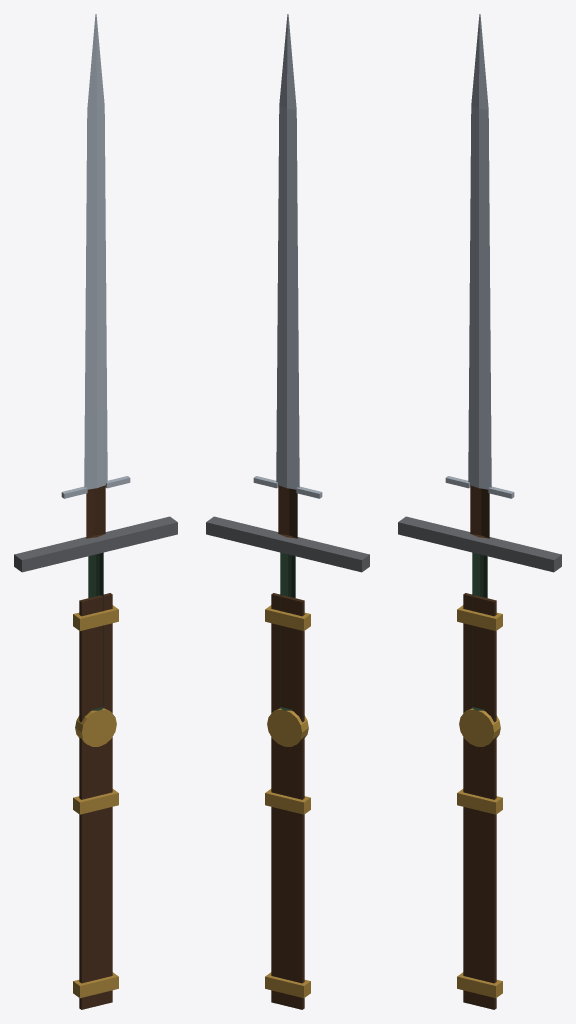
File: windgap-warden.glb
3 renders of one model, left to right at view 1: azimuth 30°, elevation 25°; view 2: azimuth 150°, elevation 25°; view 3: azimuth 330°, elevation 25°, orthographic.
Parts seen in each view (by area): view 1: weapon, carrier; view 2: weapon, carrier; view 3: weapon, carrier.
Boxes of the visible parts, x1,y1,x2,y2 form: weapon: [14, 14, 177, 746]; carrier: [73, 593, 118, 1009]; weapon: [206, 14, 369, 746]; carrier: [265, 593, 310, 1009]; weapon: [398, 14, 561, 746]; carrier: [457, 593, 502, 1009].
Bounding box in the file's own units: 0.4 × 2.43 × 0.035.
